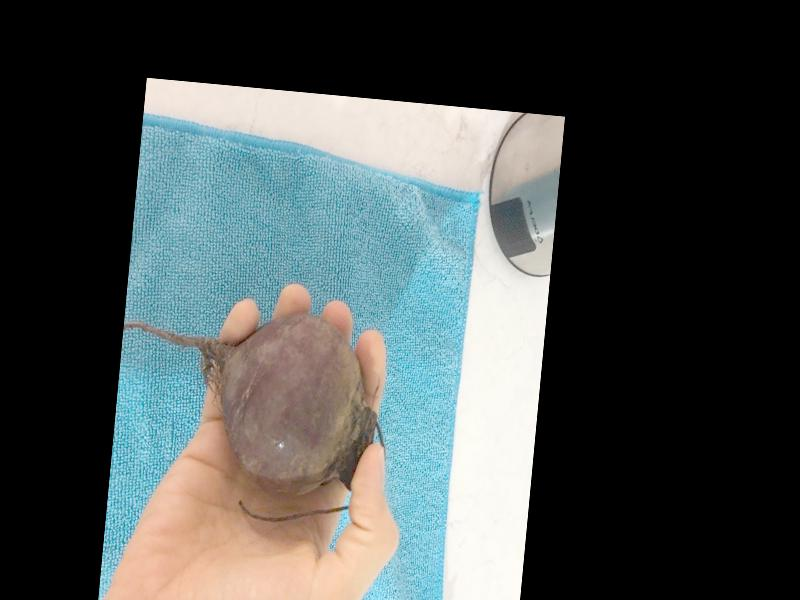Beet: (106, 296, 397, 530)
